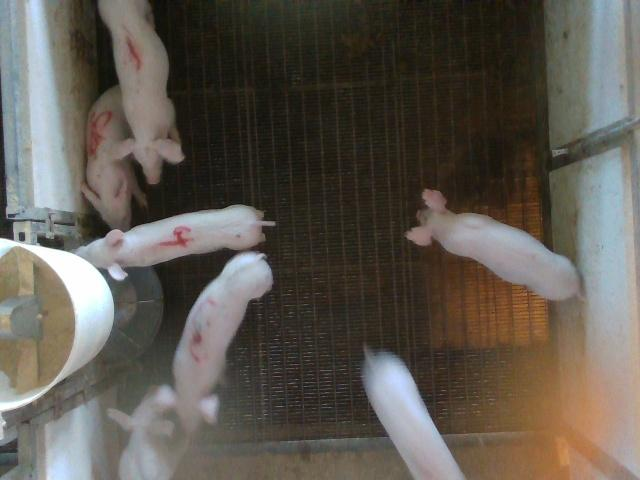pig-1: (99, 0, 184, 183)
pig-3: (160, 252, 272, 434)
pig-4: (76, 205, 275, 281)
pig-5: (81, 86, 146, 231)
